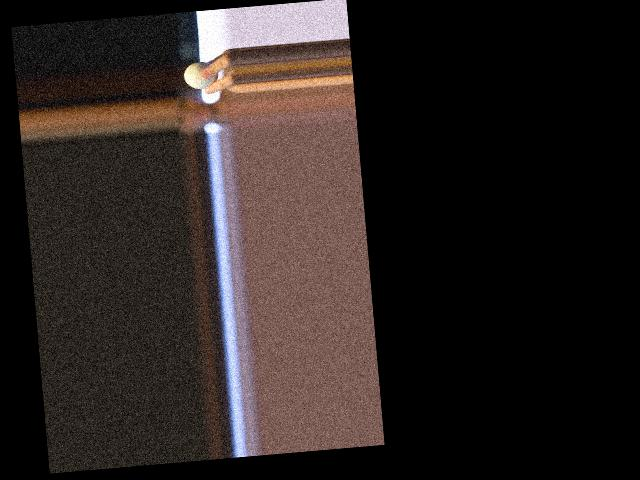egg: (183, 61, 219, 91)
